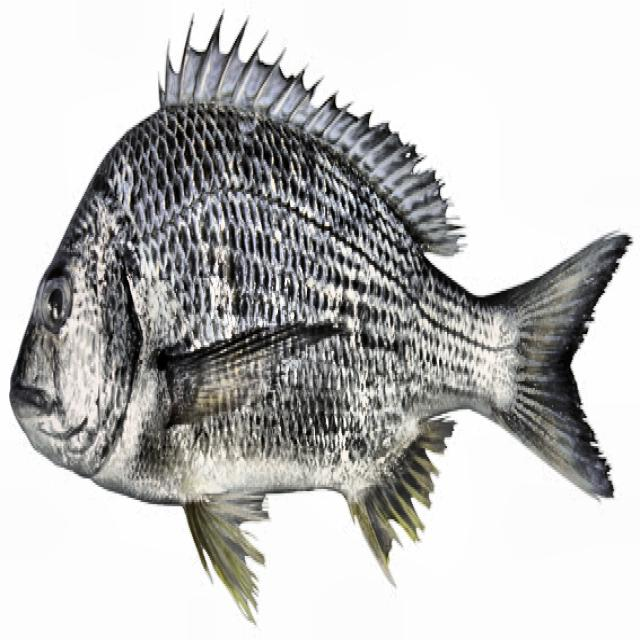fish: (10, 7, 627, 629)
